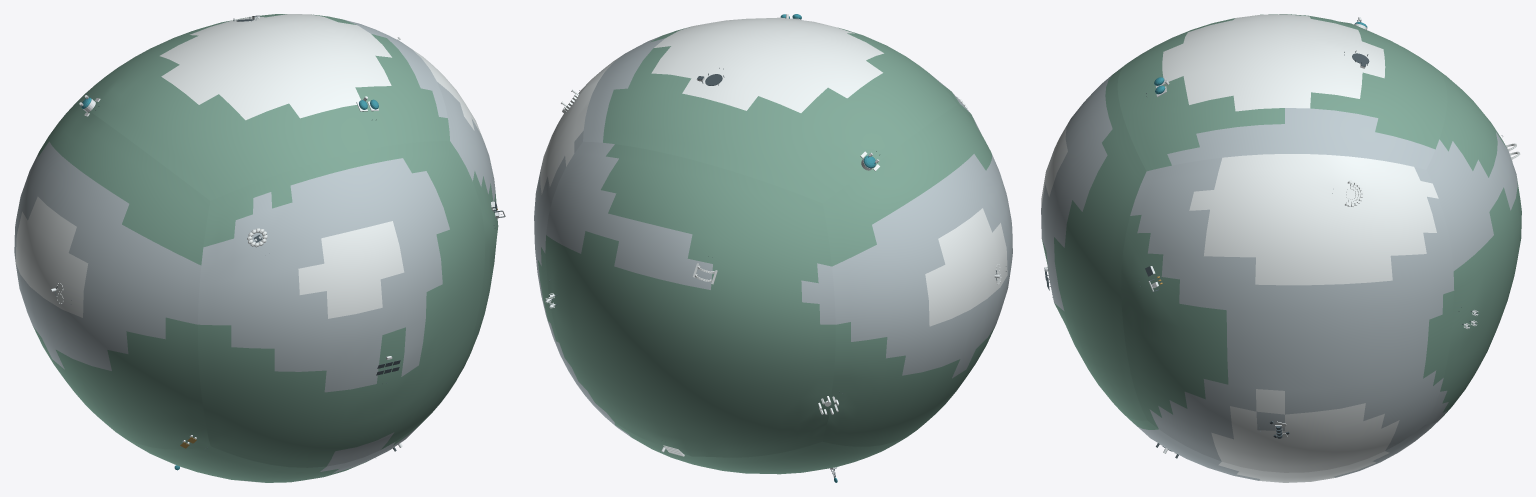
File: elur_orbital.glb
3 renders of one model, left to right at view 1: azimuth 30°, elevation 25°; view 2: azimuth 150°, elevation 25°; view 3: azimuth 270°, elevation 25°, orthographic.
Visible parts, largest first — view 1: terrain_orbital_4, terrain_orbital_1, terrain_orbital_2, terrain_orbital_0, terrain_orbital_3; view 2: terrain_orbital_5, terrain_orbital_1, terrain_orbital_2, terrain_orbital_0, terrain_orbital_3; view 3: terrain_orbital_0, terrain_orbital_2, terrain_orbital_4, terrain_orbital_5, terrain_orbital_3.
Boxes of the visible parts, x1,y1,x2,y2 form: terrain_orbital_4: [198, 141, 484, 467]; terrain_orbital_1: [14, 103, 210, 449]; terrain_orbital_2: [77, 14, 449, 200]; terrain_orbital_0: [409, 47, 498, 391]; terrain_orbital_3: [119, 392, 448, 482]; terrain_orbital_5: [545, 141, 835, 457]; terrain_orbital_1: [822, 105, 1012, 446]; terrain_orbital_2: [583, 17, 957, 203]; terrain_orbital_0: [534, 55, 622, 394]; terrain_orbital_3: [585, 395, 913, 474]; terrain_orbital_0: [1121, 154, 1454, 472]; terrain_orbital_2: [1117, 14, 1447, 171]; terrain_orbital_4: [1041, 64, 1147, 420]; terrain_orbital_5: [1425, 69, 1521, 424]; terrain_orbital_3: [1124, 414, 1439, 482].
Bounding box in the file's own units: 433 × 402 × 422.
